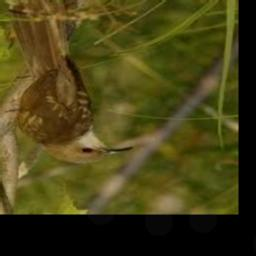Cuckoo: (4, 0, 132, 164)
